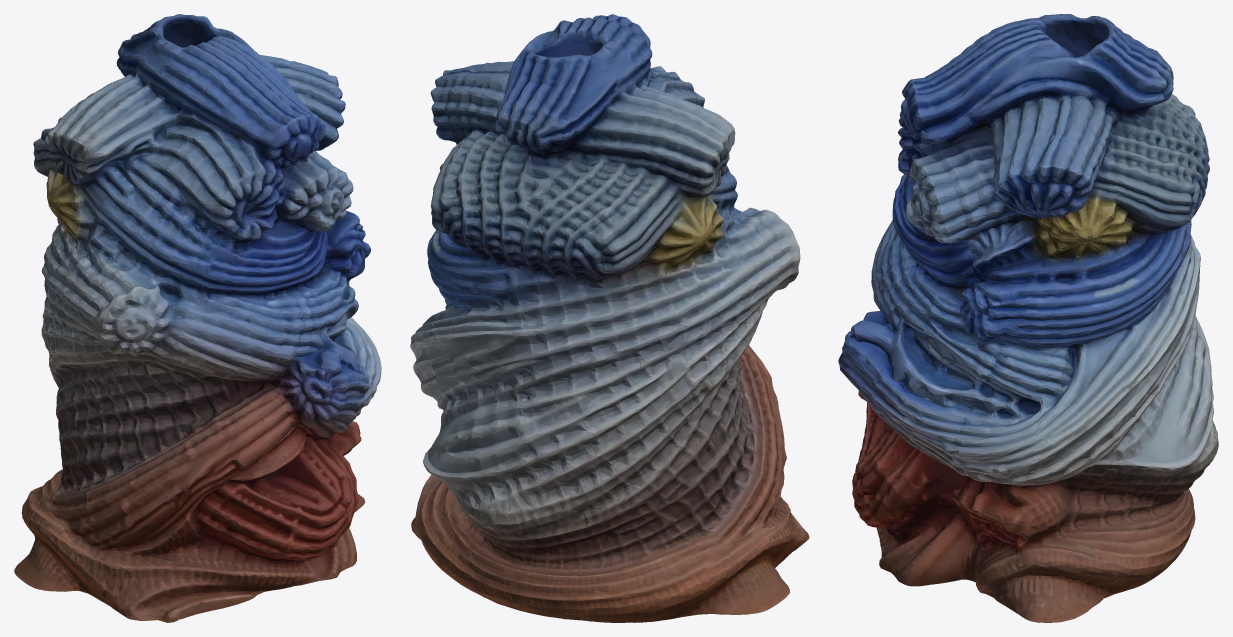
The model's file is 05_5_js_blob_candle2.glb.
The picture shows the model from 3 angles, left to right: view 1: azimuth 30°, elevation 25°; view 2: azimuth 150°, elevation 25°; view 3: azimuth 270°, elevation 25°; orthographic projection. The views are drawn at different scales.
Parts seen in each view (by area): view 1: tripo_node_d6d3441b-fd17-41c5-ada8-ec5ec427c187; view 2: tripo_node_d6d3441b-fd17-41c5-ada8-ec5ec427c187; view 3: tripo_node_d6d3441b-fd17-41c5-ada8-ec5ec427c187.
Boxes of the visible parts, x1,y1,x2,y2 form: tripo_node_d6d3441b-fd17-41c5-ada8-ec5ec427c187: (14, 14, 381, 622); tripo_node_d6d3441b-fd17-41c5-ada8-ec5ec427c187: (410, 14, 809, 622); tripo_node_d6d3441b-fd17-41c5-ada8-ec5ec427c187: (838, 14, 1218, 622).
Bounding box in the file's own units: 0.1429 × 0.2 × 0.1327.
1 material, 1 textured.
